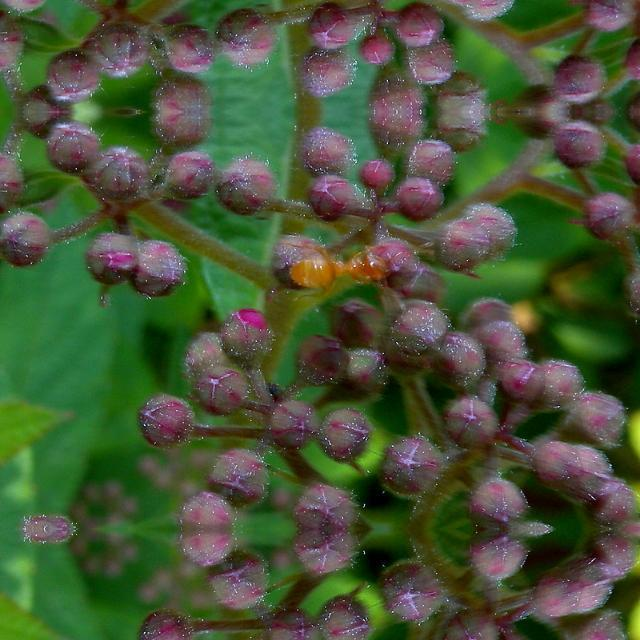Lasius: (273, 238, 407, 296)
